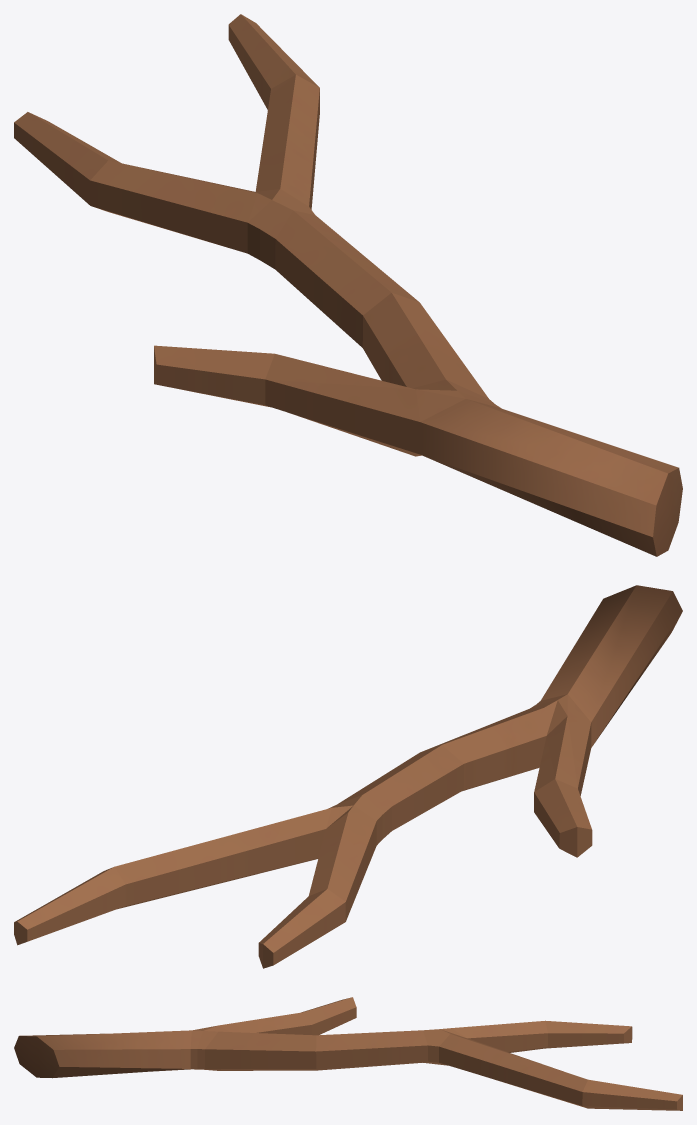
Rendered from Tree_Branch_04.fbx.
3 renders of one model, top to bottom at view 1: azimuth 30°, elevation 25°; view 2: azimuth 150°, elevation 25°; view 3: azimuth 270°, elevation 25°, orthographic. The views are drawn at different scales.
Parts seen in each view (by area): view 1: Tree_Branch_04; view 2: Tree_Branch_04; view 3: Tree_Branch_04.
Part boxes in pixels (box(x1,y1,x2,y2)): Tree_Branch_04: box(14, 14, 682, 556); Tree_Branch_04: box(14, 585, 682, 968); Tree_Branch_04: box(14, 997, 682, 1110).
Size of the model in its own units: 57.34 by 12.44 by 150.
